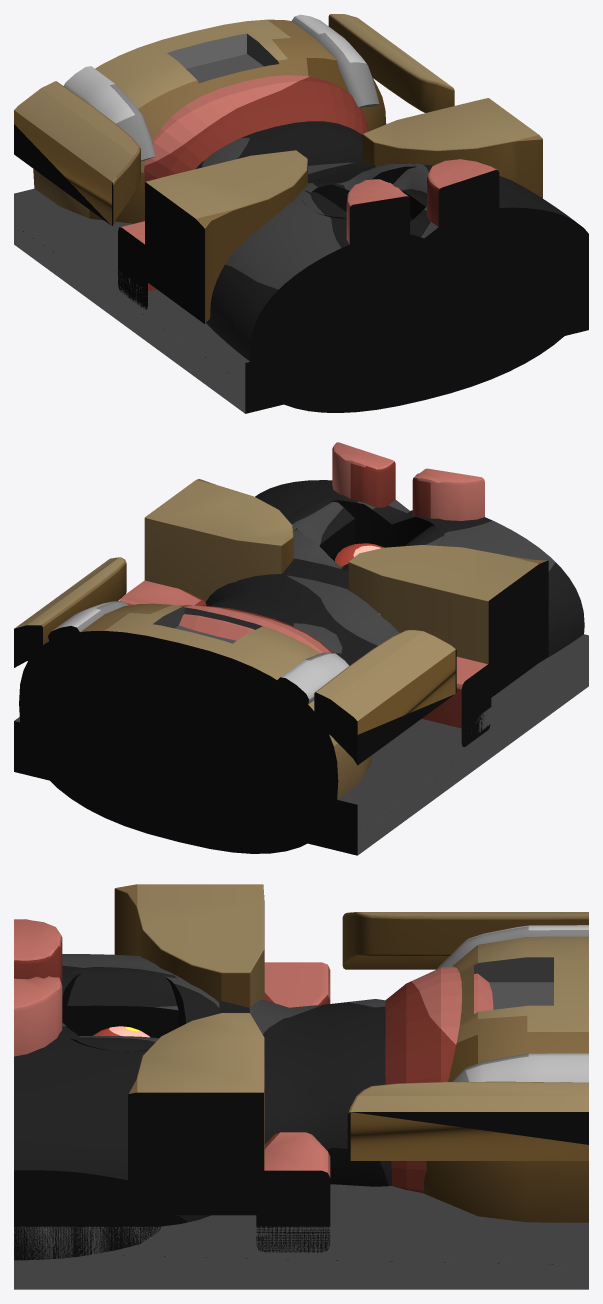
Rendered from tusk_boss_core_7.glb.
3 renders of one model, top to bottom at view 1: azimuth 30°, elevation 25°; view 2: azimuth 150°, elevation 25°; view 3: azimuth 270°, elevation 25°, orthographic. The views are drawn at different scales.
Parts seen in each view (by area): view 1: tusk_boss_core_7; view 2: tusk_boss_core_7; view 3: tusk_boss_core_7.
Part boxes in pixels (x1,y1,x2,y2): tusk_boss_core_7: (14, 14, 588, 413); tusk_boss_core_7: (14, 442, 588, 855); tusk_boss_core_7: (14, 884, 588, 1289).
Bounding box in the file's own units: 24 × 14.5 × 28.
